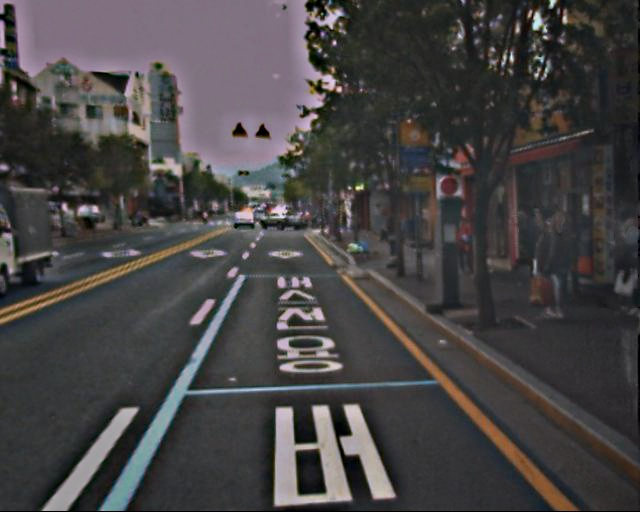person: (516, 208, 574, 309), (610, 215, 640, 363), (456, 220, 476, 276), (384, 216, 402, 259)
